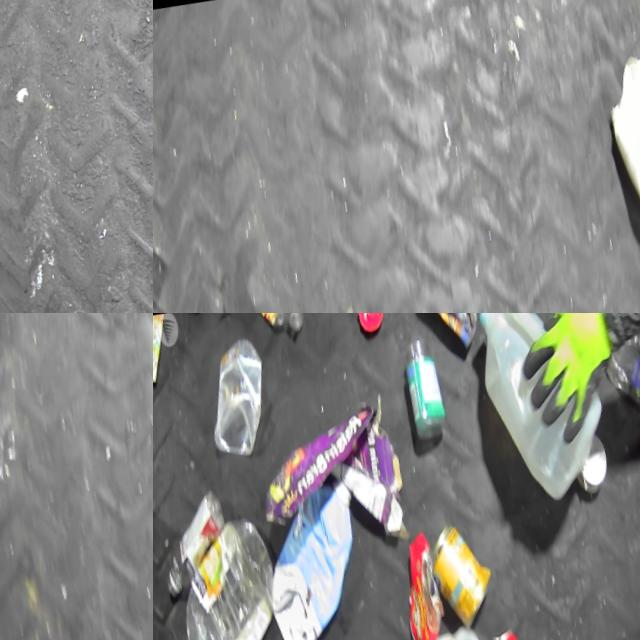can: (422, 509, 512, 632), (571, 428, 618, 492)
milk_jug: (456, 313, 631, 510), (248, 468, 387, 640), (587, 35, 640, 248)
plastic_bottle: (161, 507, 304, 640), (193, 329, 285, 462), (153, 481, 245, 599), (267, 313, 307, 333)
